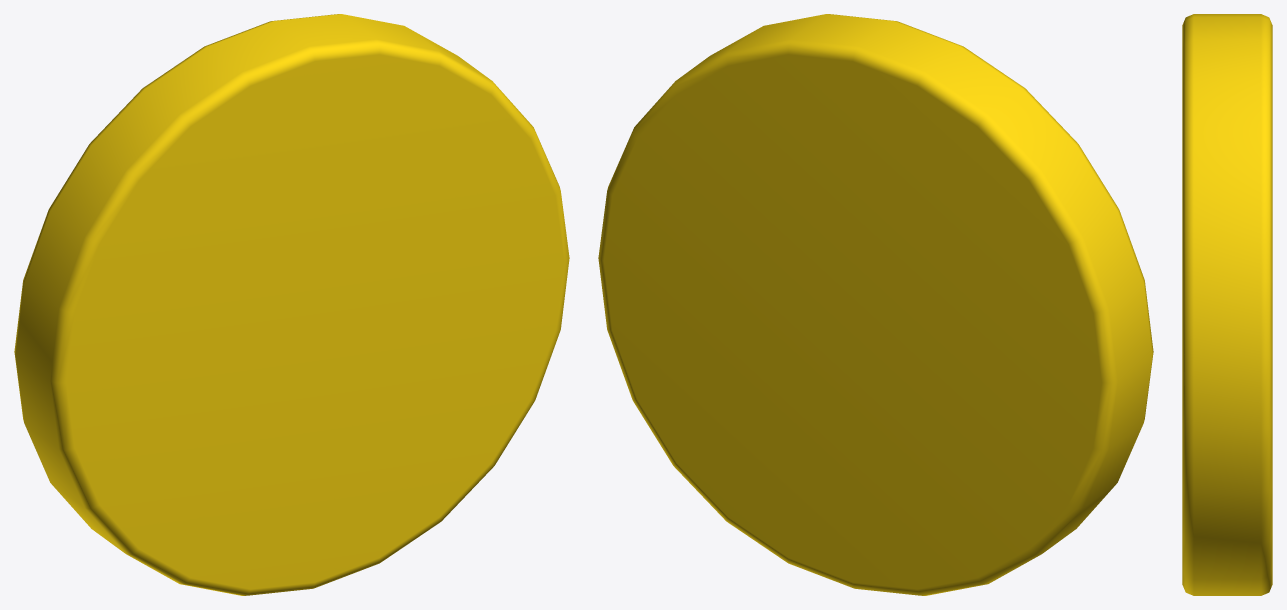
Rendered from Public_1_Coin_2.glb.
3 renders of one model, left to right at view 1: azimuth 30°, elevation 25°; view 2: azimuth 150°, elevation 25°; view 3: azimuth 270°, elevation 25°, orthographic. The views are drawn at different scales.
Parts seen in each view (by area): view 1: Public_1_Coin_2; view 2: Public_1_Coin_2; view 3: Public_1_Coin_2.
Boxes of the visible parts, bbox=[...] form: Public_1_Coin_2: bbox=[14, 14, 569, 595]; Public_1_Coin_2: bbox=[598, 14, 1153, 595]; Public_1_Coin_2: bbox=[1182, 14, 1272, 595].
Size of the model in its own units: 1.11 by 1.11 by 0.1719.
1 material, 1 textured.
